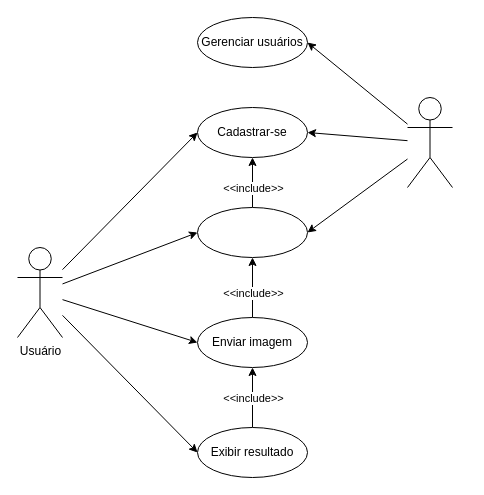
The diagram is 484 pixels wide and 495 high, and some of its shapes have lost their labels. Here are the shapes that lost their labels. From the top down, the centre of each, then its label:
At [429,142]: "Administrador".
At [252,232]: "Fazer login".
